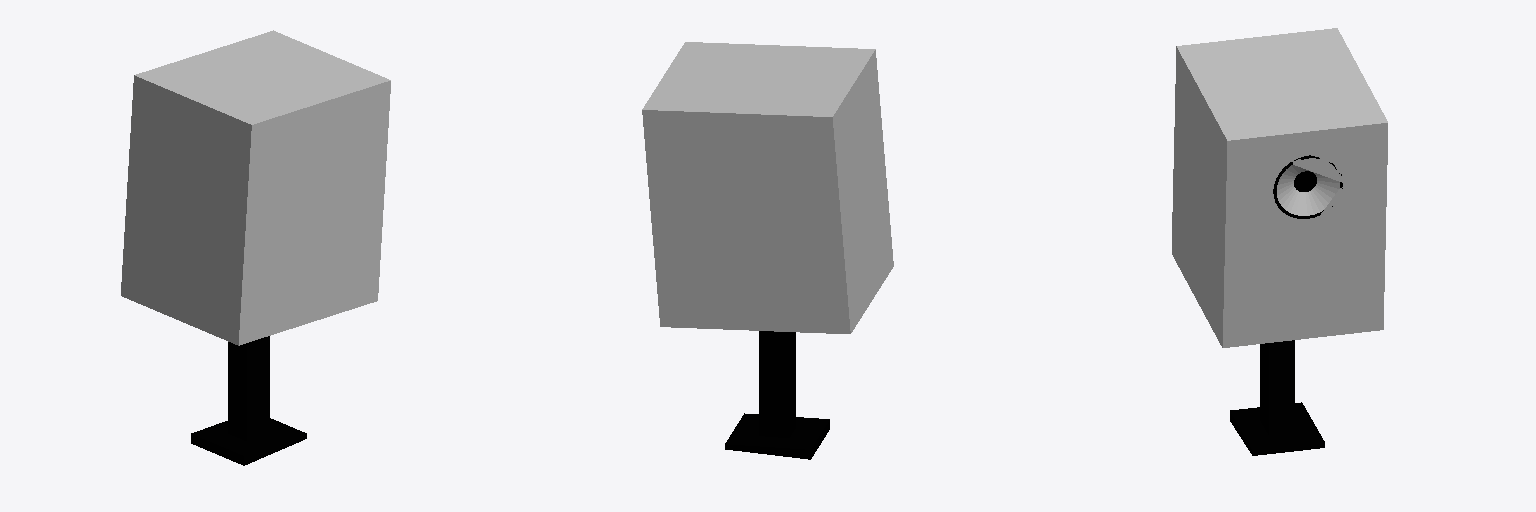
The model's file is leftSpeaker.obj.
3 views of the same model, side by side, from view 1: azimuth 30°, elevation 25°; view 2: azimuth 150°, elevation 25°; view 3: azimuth 270°, elevation 25° (orthographic).
Bounding box in the file's own units: 0.5938 × 0.9495 × 0.5115.